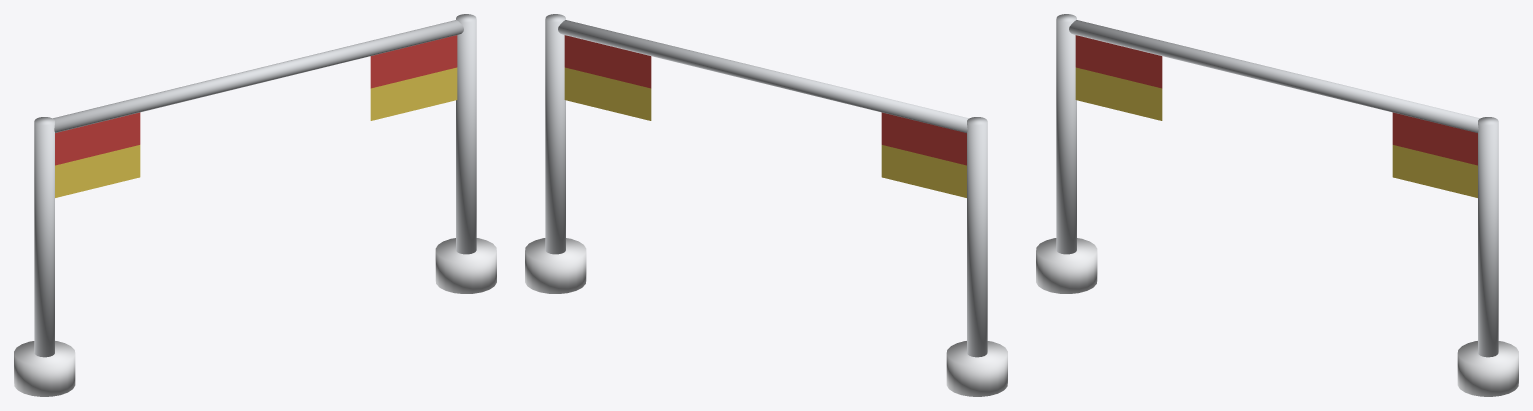
File: flag_gate.glb
The picture shows the model from 3 angles, left to right: view 1: azimuth 30°, elevation 25°; view 2: azimuth 150°, elevation 25°; view 3: azimuth 330°, elevation 25°; orthographic projection.
Parts seen in each view (by area): view 1: gate_crossbar, flag_R, flag_L, gate_post_L, gate_post_R, gate_float_L, gate_float_R; view 2: gate_crossbar, flag_R, flag_L, gate_post_L, gate_post_R, gate_float_L, gate_float_R; view 3: gate_crossbar, flag_L, flag_R, gate_post_R, gate_post_L, gate_float_R, gate_float_L.
Part boxes in pixels (left/top/right/bottom): gate_crossbar: left=53, top=20, right=463, bottom=132; flag_R: left=370, top=35, right=457, bottom=120; flag_L: left=55, top=112, right=140, bottom=197; gate_post_L: left=34, top=117, right=54, bottom=357; gate_post_R: left=456, top=14, right=476, bottom=254; gate_float_L: left=14, top=341, right=75, bottom=396; gate_float_R: left=435, top=238, right=496, bottom=293; gate_crossbar: left=558, top=20, right=968, bottom=132; flag_R: left=564, top=35, right=651, bottom=120; flag_L: left=881, top=112, right=966, bottom=197; gate_post_L: left=967, top=117, right=987, bottom=357; gate_post_R: left=545, top=14, right=565, bottom=254; gate_float_L: left=946, top=341, right=1007, bottom=396; gate_float_R: left=525, top=238, right=586, bottom=293; gate_crossbar: left=1069, top=20, right=1479, bottom=132; flag_L: left=1075, top=35, right=1162, bottom=120; flag_R: left=1392, top=112, right=1477, bottom=197; gate_post_R: left=1478, top=117, right=1498, bottom=357; gate_post_L: left=1056, top=14, right=1076, bottom=254; gate_float_R: left=1457, top=341, right=1518, bottom=396; gate_float_L: left=1036, top=238, right=1097, bottom=293.
Size of the model in its own units: 8 by 4.23 by 0.9.
